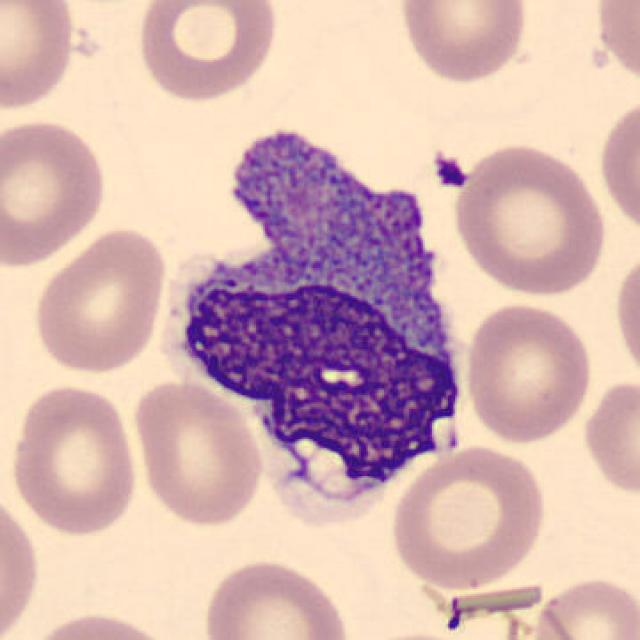Monocyte: (151, 117, 480, 532)
Platelets: (430, 150, 470, 192)
RBC: (448, 139, 610, 298), (386, 442, 551, 592), (28, 224, 170, 375), (7, 381, 142, 538), (130, 376, 266, 530), (462, 298, 596, 446), (0, 114, 110, 270), (133, 0, 281, 104), (199, 555, 356, 640), (394, 0, 531, 86), (0, 0, 80, 115), (580, 374, 638, 501), (534, 573, 638, 640), (594, 91, 638, 242), (0, 488, 43, 640), (19, 608, 185, 640), (588, 0, 638, 90), (610, 245, 640, 388)
